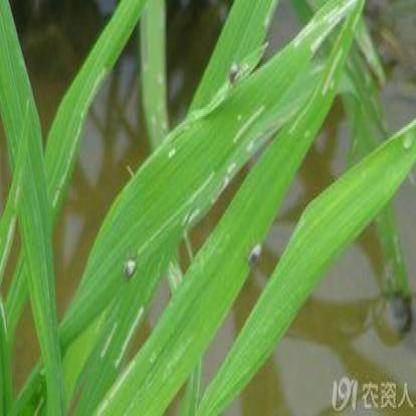rice-bug: (246, 241, 264, 271), (226, 60, 245, 88), (122, 252, 139, 281)
